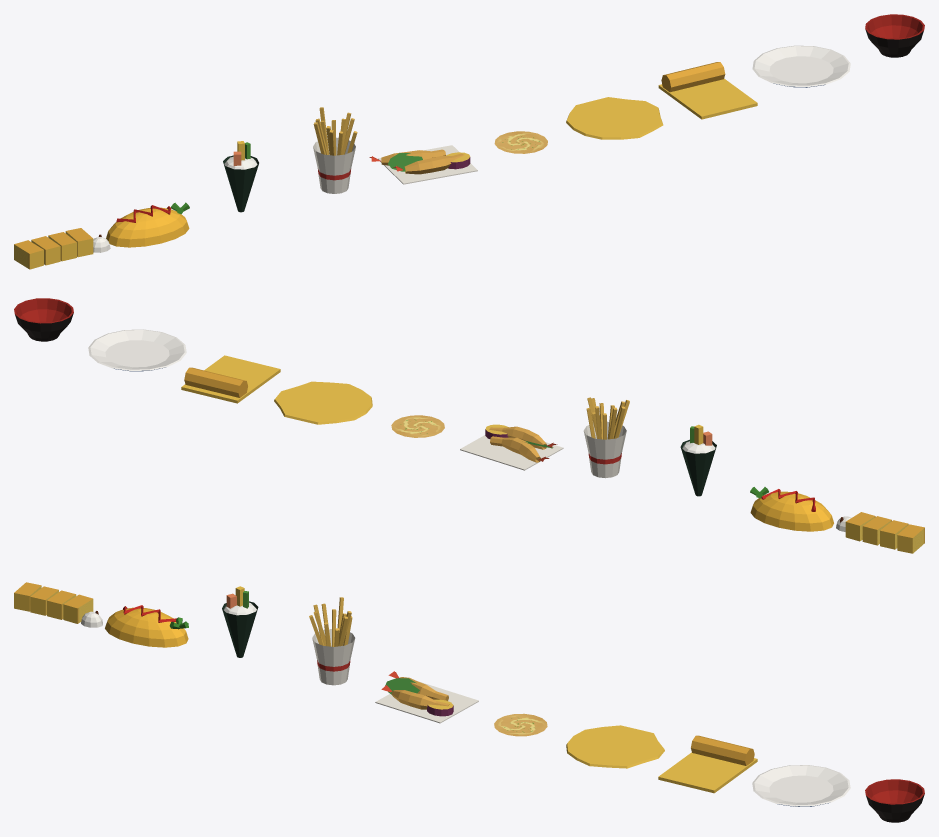
Rendered from stovefood.glb.
3 views of the same model, one above another, from view 1: azimuth 30°, elevation 25°; view 2: azimuth 150°, elevation 25°; view 3: azimuth 330°, elevation 25° (orthographic).
Parts seen in each view (by area): view 1: PanRoll, DishPlate, PanEgg, Fries, Omurice, Tempura, Tamagoyaki, SoupBowl, HandRoll, EggDropTop; view 2: PanEgg, DishPlate, PanRoll, Tempura, Omurice, Fries, Tamagoyaki, SoupBowl, HandRoll, EggDropTop; view 3: PanRoll, PanEgg, DishPlate, Tempura, Fries, Omurice, Tamagoyaki, SoupBowl, HandRoll, EggDropTop.
Boxes of the visible parts, <box> form: PanRoll: <box>658,62,757,119</box>; DishPlate: <box>752,45,850,87</box>; PanEgg: <box>566,97,663,139</box>; Fries: <box>313,107,357,193</box>; Omurice: <box>106,202,189,247</box>; Tempura: <box>369,145,477,184</box>; Tamagoyaki: <box>14,228,110,269</box>; SoupBowl: <box>865,14,924,57</box>; HandRoll: <box>223,141,258,212</box>; EggDropTop: <box>494,131,547,153</box>; PanEgg: <box>274,381,372,424</box>; DishPlate: <box>88,329,186,371</box>; PanRoll: <box>181,355,280,403</box>; Tempura: <box>460,424,563,470</box>; Omurice: <box>750,487,833,531</box>; Fries: <box>583,397,629,478</box>; Tamagoyaki: <box>836,512,924,553</box>; SoupBowl: <box>14,298,73,341</box>; HandRoll: <box>680,424,716,496</box>; EggDropTop: <box>391,415,444,437</box>; PanRoll: <box>658,735,757,793</box>; PanEgg: <box>566,725,664,768</box>; DishPlate: <box>752,765,850,806</box>; Tempura: <box>375,671,478,723</box>; Fries: <box>309,597,355,685</box>; Omurice: <box>105,605,188,647</box>; Tamagoyaki: <box>14,582,102,627</box>; SoupBowl: <box>865,779,924,822</box>; HandRoll: <box>222,586,258,657</box>; EggDropTop: <box>494,713,547,736</box>.
Size of the model in its own units: 1.93 by 0.1505 by 0.1843.
25 materials, 2 textured.
